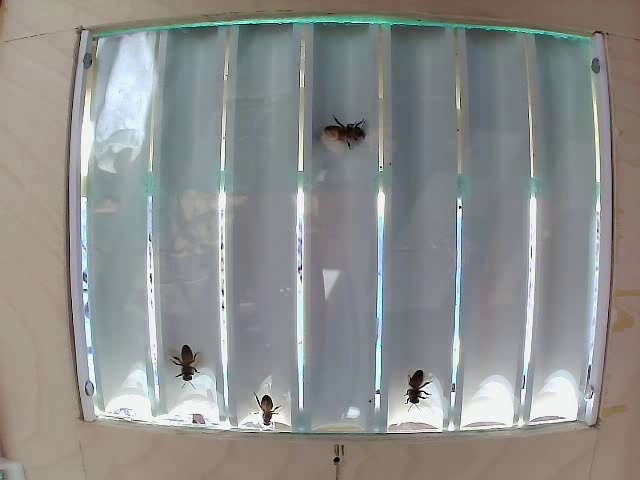bee: (391, 362, 443, 418), (317, 105, 374, 148), (171, 335, 212, 394)
